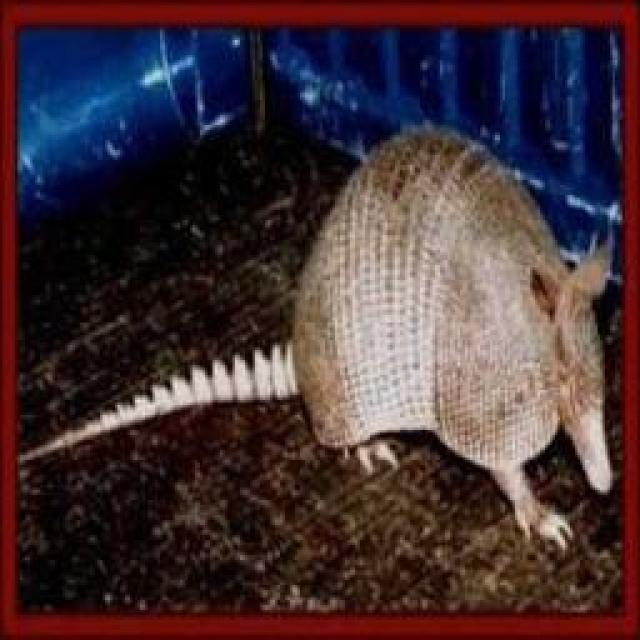not_pig: (15, 123, 615, 556)
